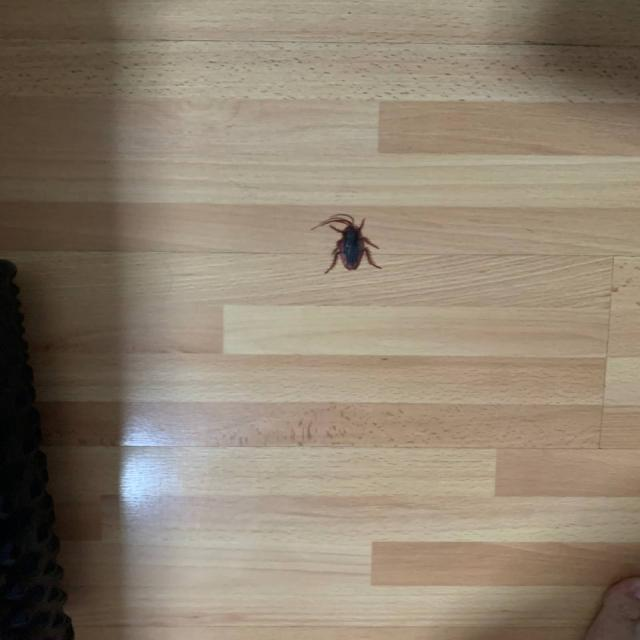Cockroach: (309, 214, 386, 288)
